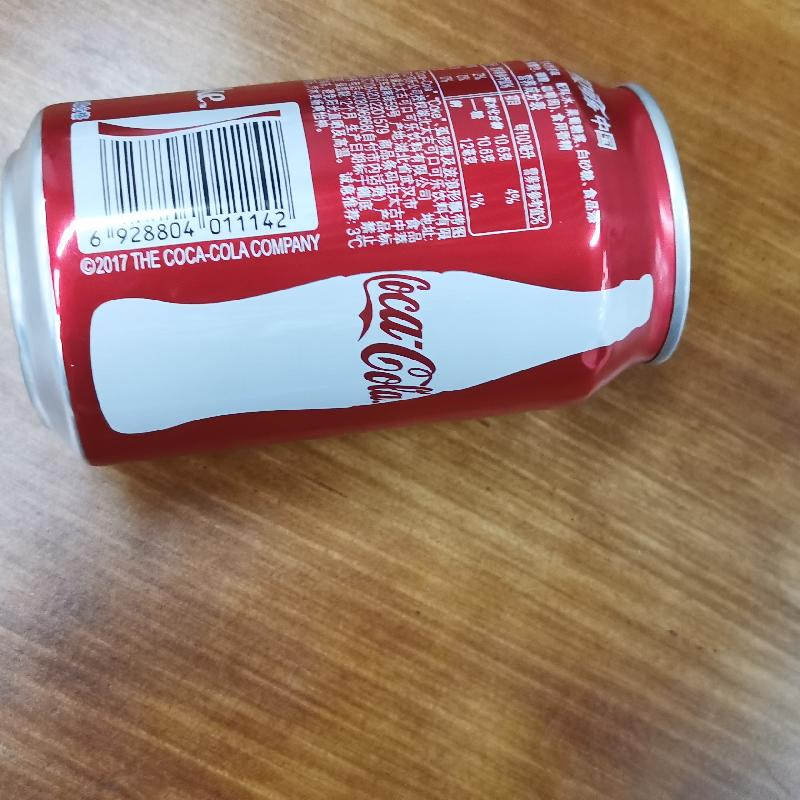cans: (0, 50, 713, 470)
